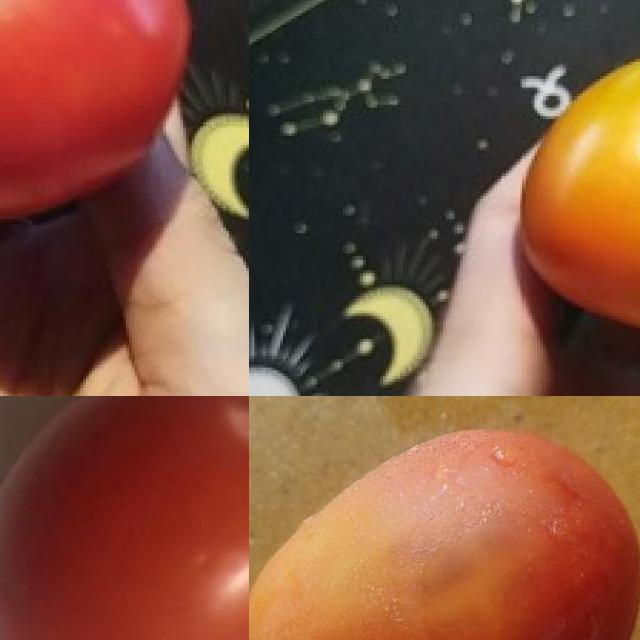Fresh Tomato: (249, 410, 640, 640), (0, 396, 249, 640), (489, 39, 640, 377)
